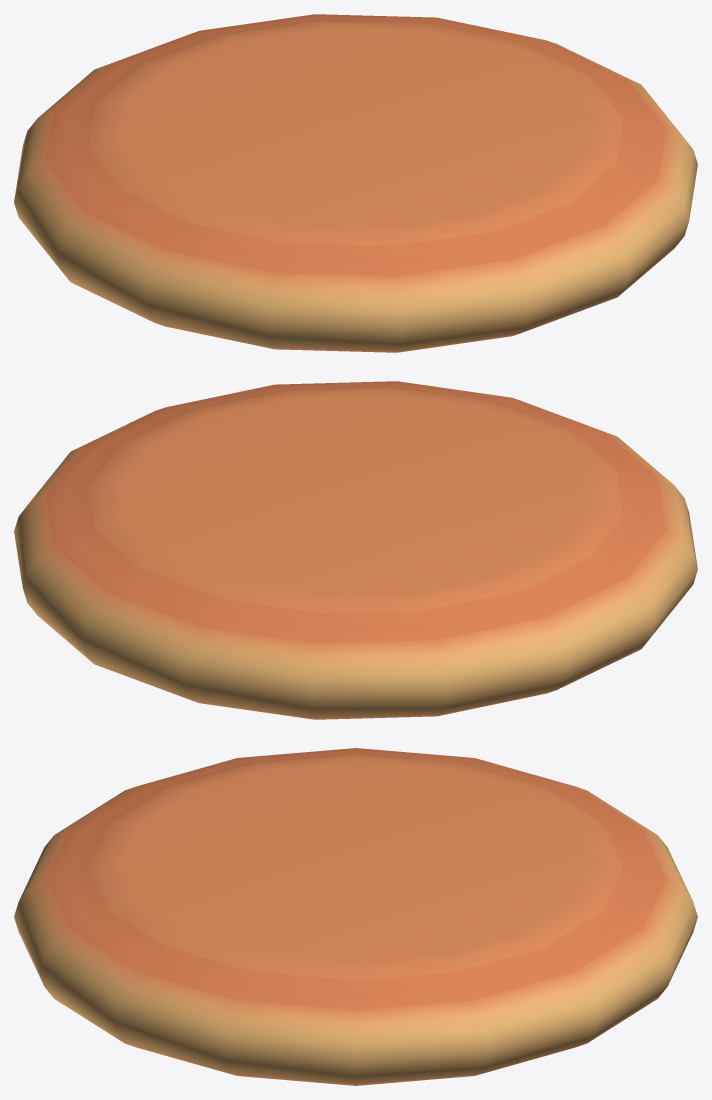
Rendered from Pancake_V1_00.fbx.
3 renders of one model, top to bottom at view 1: azimuth 30°, elevation 25°; view 2: azimuth 150°, elevation 25°; view 3: azimuth 270°, elevation 25°, orthographic.
Visible parts, largest first — view 1: Pancake_V1_00; view 2: Pancake_V1_00; view 3: Pancake_V1_00.
Part boxes in pixels (box(x1,y1,x2,y2)): Pancake_V1_00: box(14, 14, 697, 352); Pancake_V1_00: box(14, 381, 697, 719); Pancake_V1_00: box(14, 748, 697, 1085).
Bounding box in the file's own units: 64.15 × 11.52 × 64.15.
